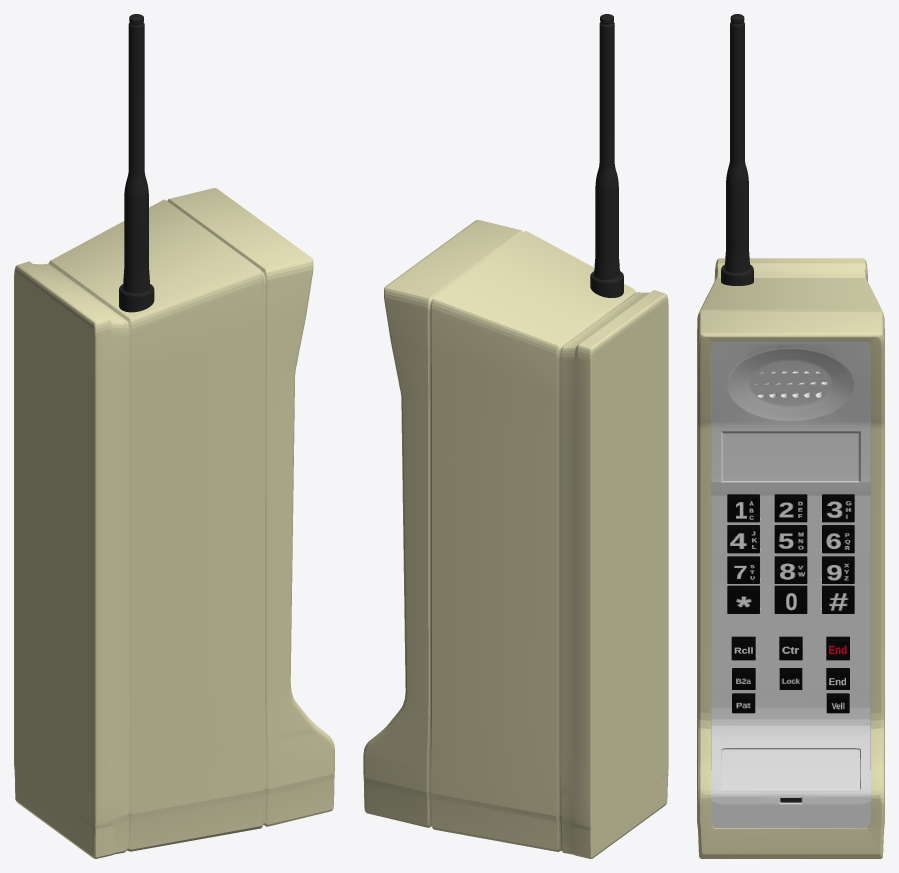
Rendered from Old_Cell_Phone_Packed2.fbx.
The picture shows the model from 3 angles, left to right: view 1: azimuth 30°, elevation 25°; view 2: azimuth 150°, elevation 25°; view 3: azimuth 270°, elevation 25°; orthographic projection. The views are drawn at different scales.
Visible parts, largest first — view 1: Cube.001; view 2: Cube.001; view 3: Cube.001.
Boxes of the visible parts, <box> form: Cube.001: <box>14,14,334,858</box>; Cube.001: <box>363,14,668,858</box>; Cube.001: <box>697,14,884,858</box>.
Bounding box in the file's own units: 73.69 × 250 × 55.83.
